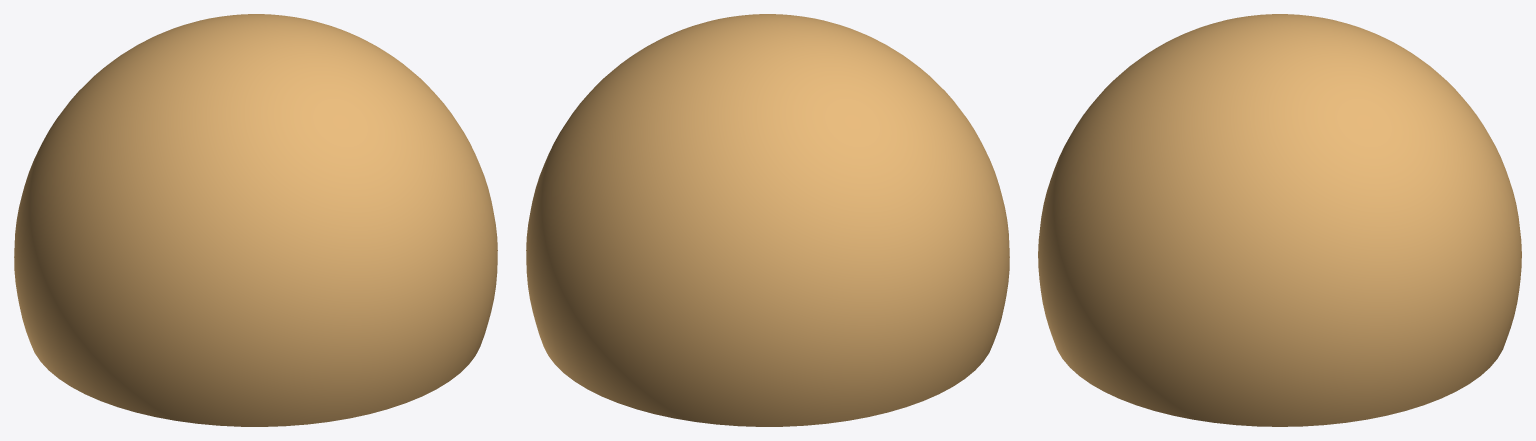
Rendered from sky.glb.
3 renders of one model, left to right at view 1: azimuth 30°, elevation 25°; view 2: azimuth 150°, elevation 25°; view 3: azimuth 270°, elevation 25°, orthographic.
Parts seen in each view (by area): view 1: Mesh_0; view 2: Mesh_0; view 3: Mesh_0.
Boxes of the visible parts, x1,y1,x2,y2 form: Mesh_0: [14, 14, 497, 426]; Mesh_0: [526, 14, 1009, 426]; Mesh_0: [1038, 14, 1521, 426].
Bounding box in the file's own units: 400 × 268 × 400.
